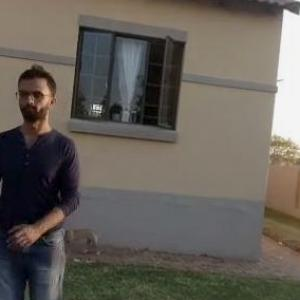follow: (0, 55, 86, 299)
null: (61, 223, 106, 258)
